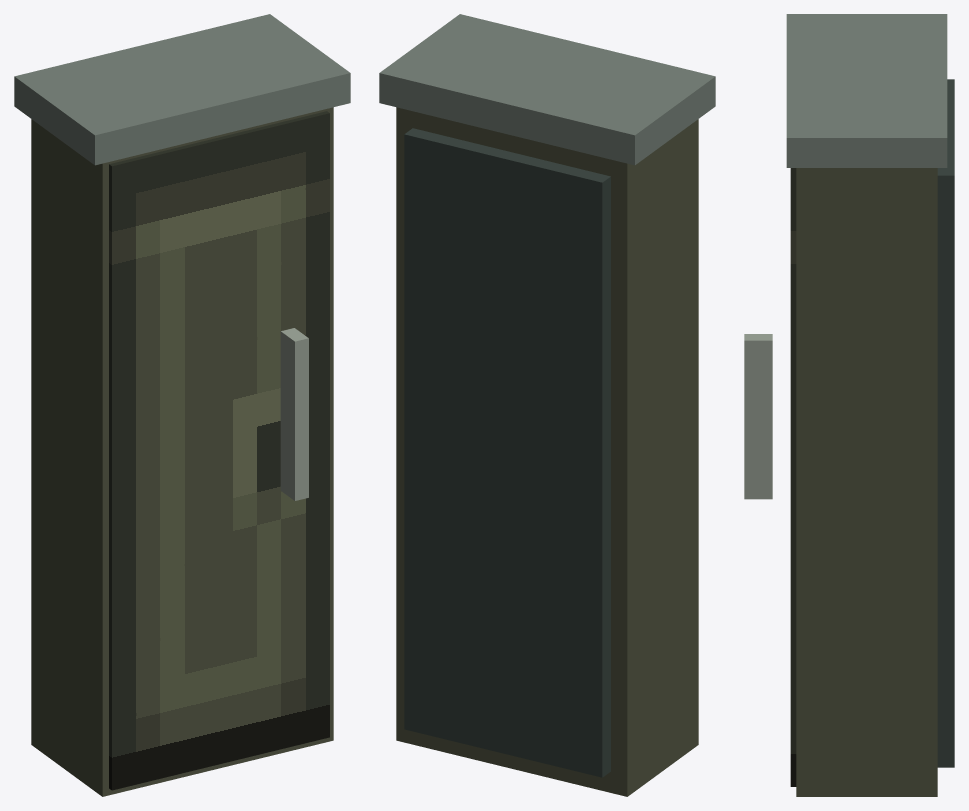
File: CMU3DInteriorVehicleSPPTankSmallLocker.glb
The picture shows the model from 3 angles, left to right: view 1: azimuth 30°, elevation 25°; view 2: azimuth 150°, elevation 25°; view 3: azimuth 270°, elevation 25°; orthographic projection.
Parts seen in each view (by area): view 1: source equipment controls, closed equipment casing, reinforced top, door handle; view 2: rear service plate, closed equipment casing, reinforced top; view 3: closed equipment casing, reinforced top, rear service plate, door handle, source equipment controls.
Part boxes in pixels (x1,y1,x2,y2): source equipment controls: (109, 111, 329, 790); closed equipment casing: (31, 107, 333, 796); reinforced top: (14, 14, 350, 165); door handle: (280, 328, 308, 500); rear service plate: (404, 128, 610, 777); closed equipment casing: (396, 107, 698, 796); reinforced top: (379, 14, 715, 165); closed equipment casing: (796, 168, 937, 796); reinforced top: (786, 14, 947, 167); rear service plate: (937, 79, 954, 767); door handle: (744, 334, 772, 499); source equipment controls: (790, 168, 796, 786).
Bounding box in the file's own units: 0.3113 × 0.7772 × 0.223.
Materials: 5 (1 with a texture image).
